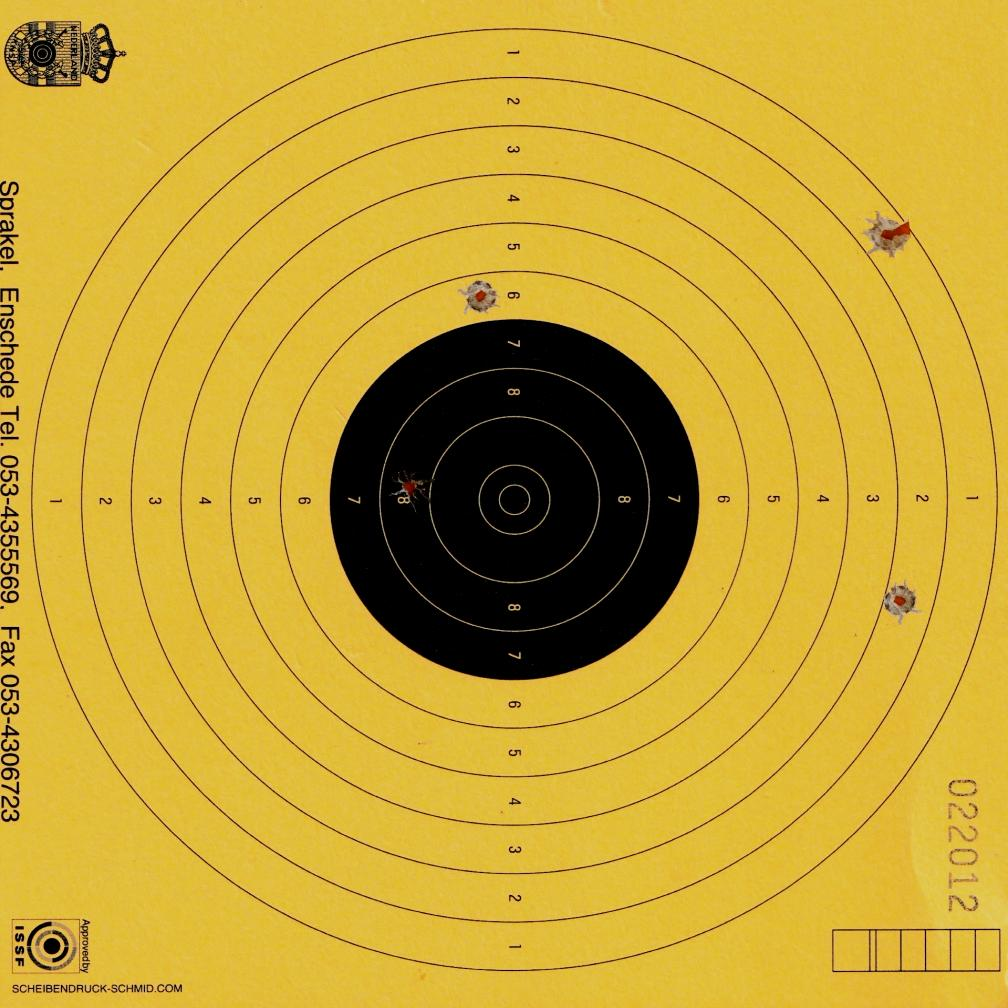1: (865, 210, 912, 258)
3: (880, 578, 923, 626)
6: (454, 276, 502, 319)
9: (386, 469, 436, 514)
Target: (28, 25, 1002, 978)
black_contour: (328, 318, 698, 683)
